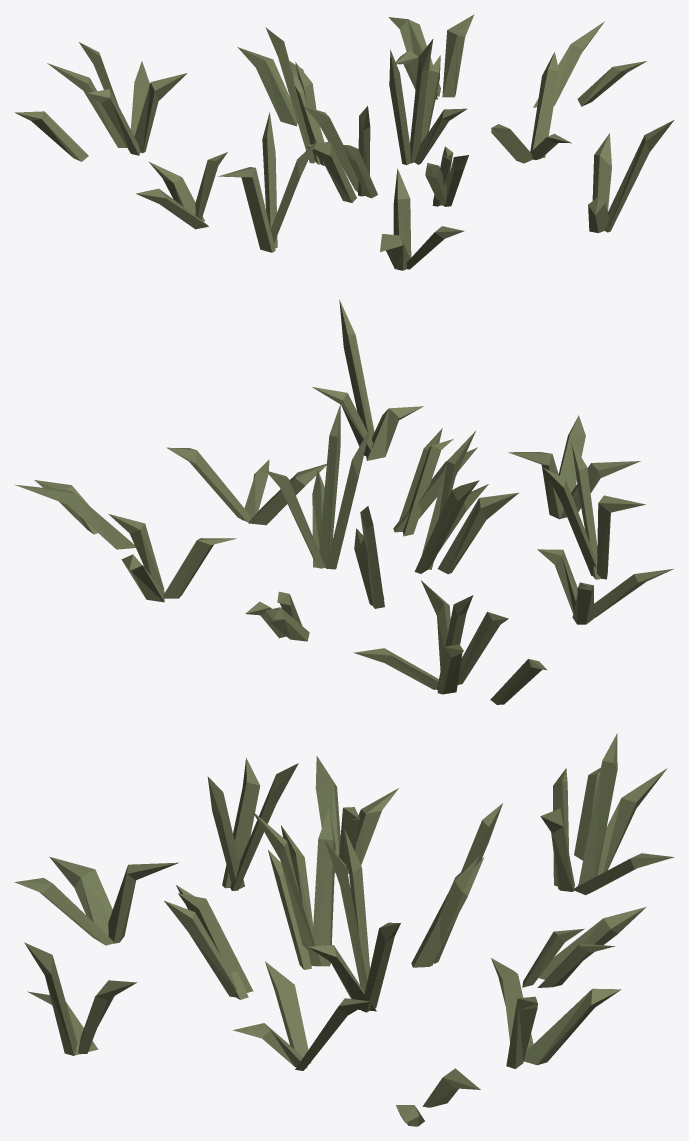
Rendered from SM_Gerneric_Grass_Patch_01.glb.
3 views of the same model, one above another, from view 1: azimuth 30°, elevation 25°; view 2: azimuth 150°, elevation 25°; view 3: azimuth 270°, elevation 25° (orthographic). The views are drawn at different scales.
Visible parts, largest first — view 1: SM_Gerneric_Grass_Patch_01; view 2: SM_Gerneric_Grass_Patch_01; view 3: SM_Gerneric_Grass_Patch_01.
Boxes of the visible parts, box(x1,y1,x2,y2) form: SM_Gerneric_Grass_Patch_01: box(15, 14, 674, 270); SM_Gerneric_Grass_Patch_01: box(15, 299, 674, 704); SM_Gerneric_Grass_Patch_01: box(14, 733, 674, 1126).
Bounding box in the file's own units: 3.09 × 0.7256 × 2.57.
1 material, 1 textured.
